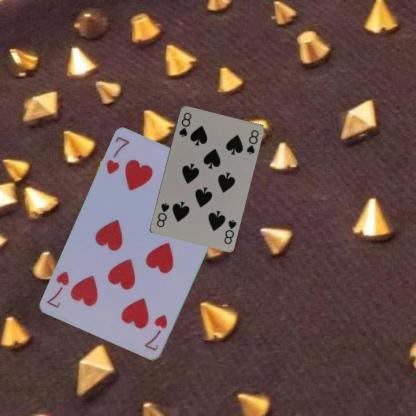7h: (104, 134, 131, 176), (142, 312, 168, 352)
8s: (221, 217, 238, 245), (176, 110, 192, 138)
